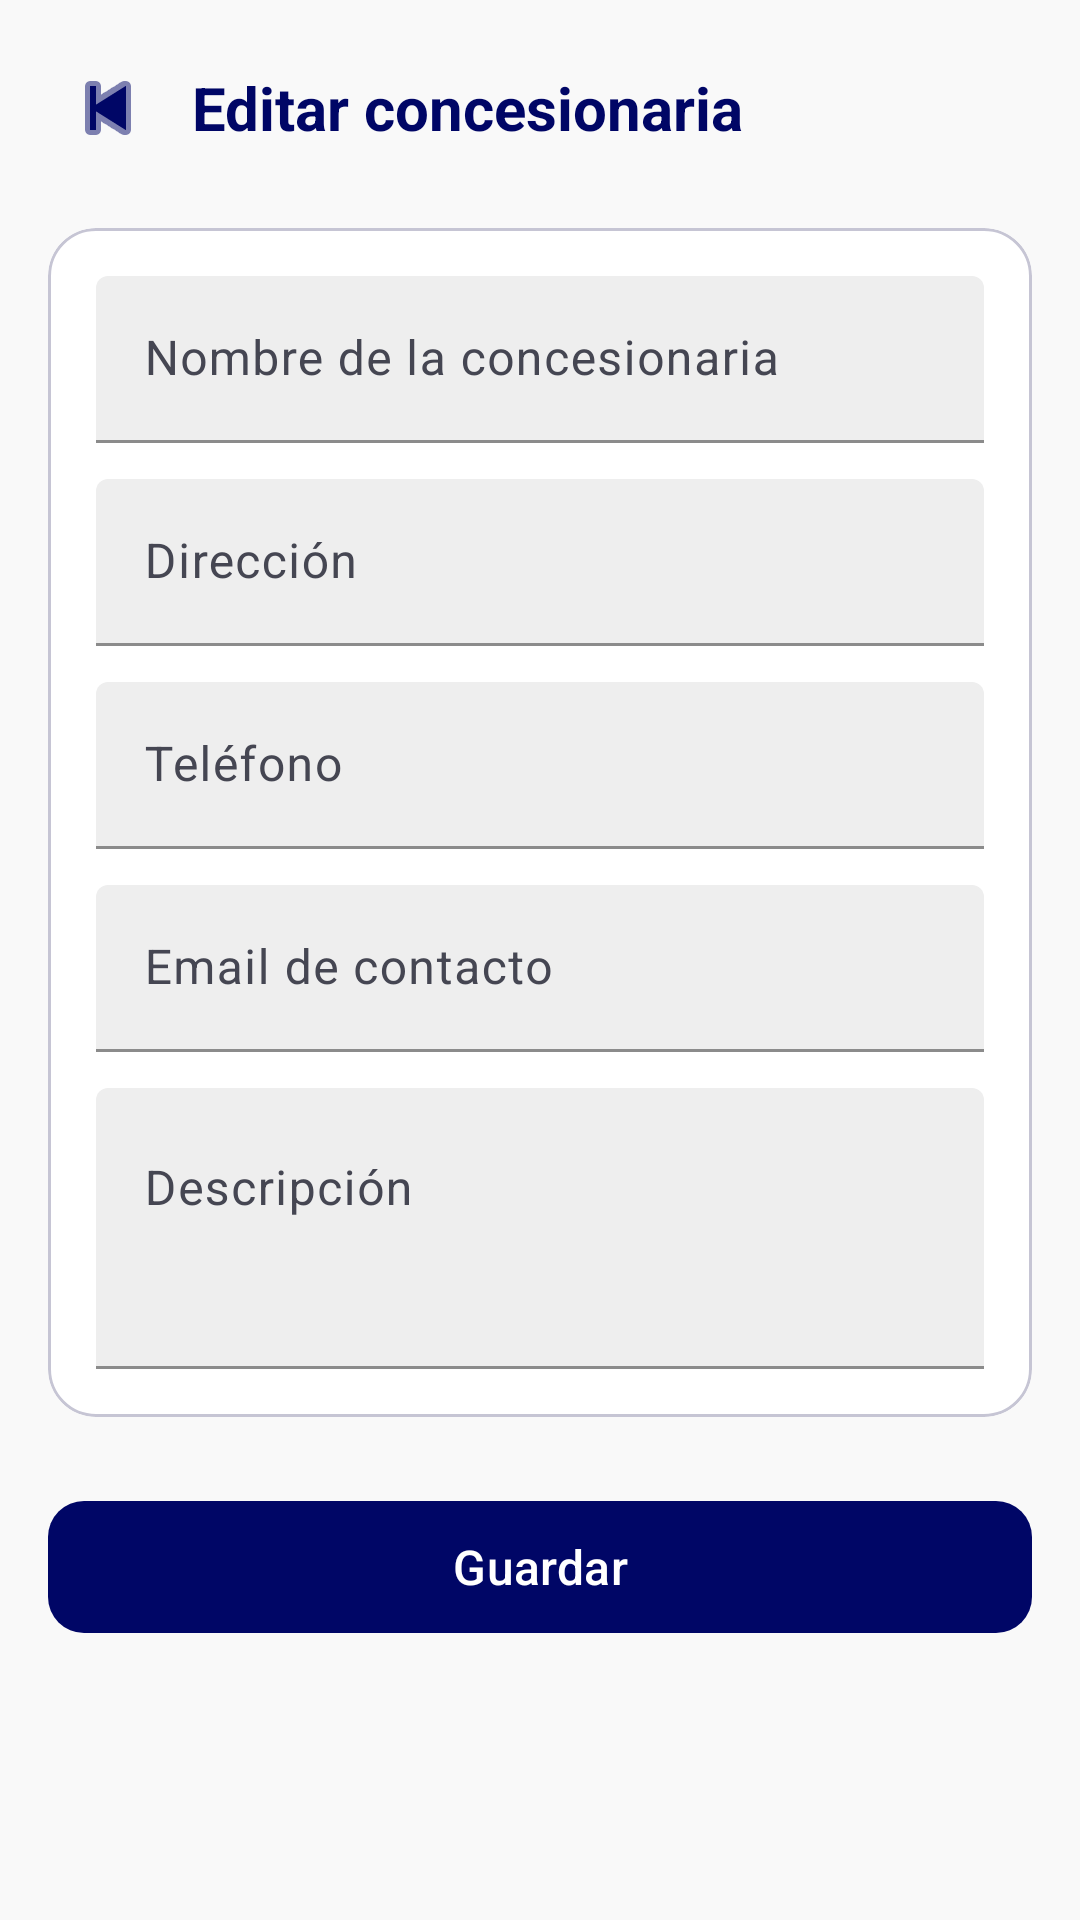

Where icons sit on this 1080 x 1920 app screen, as (x1=x1, y1=y1, x2=x2, y2=y2):
Volver: (x1=85, y1=81, x2=131, y2=135)
